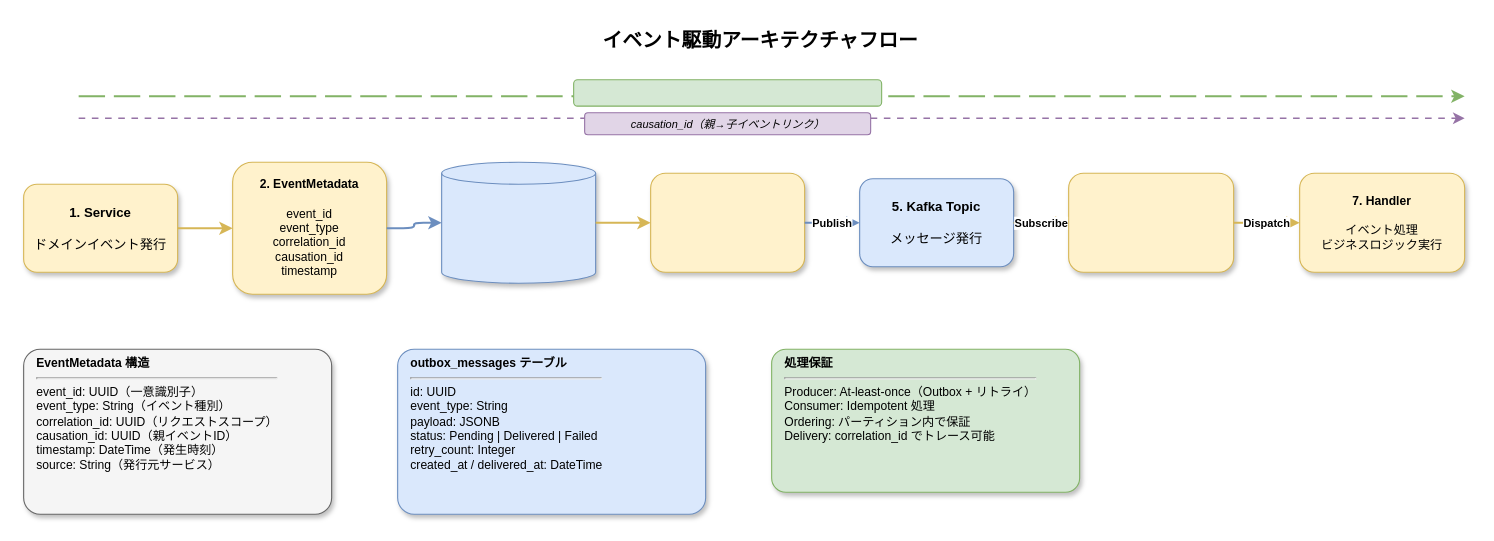
Image size: 1494x541. Some labels were removed from this diagram. Each missing label, with the centre of its shape:
3. OutboxMessage DB Transaction で永続化: the point at 519,224
4. OutboxProcessor バッチ処理 Pending メッセージ取得: the point at 728,224
6. Consumer Group トピック購読 パーティション割当: the point at 1151,224
correlation_id 伝播（全ステップで維持）: the point at 727,92
